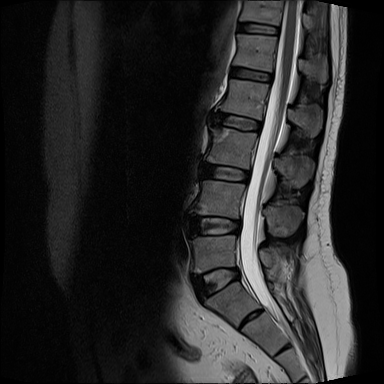Normal IVD: (186, 267, 246, 308), (198, 157, 253, 187), (185, 212, 243, 240), (215, 108, 262, 135), (228, 61, 275, 85), (234, 17, 281, 37)
